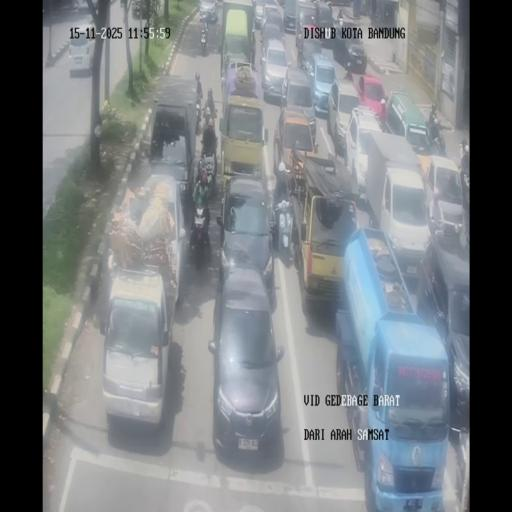3: (338, 232, 448, 507), (288, 156, 357, 316), (144, 78, 202, 206), (362, 134, 426, 248), (218, 91, 266, 200), (220, 0, 256, 78)
car: (208, 269, 284, 461), (100, 267, 174, 431), (216, 177, 276, 298), (422, 154, 464, 237), (330, 76, 366, 154), (281, 64, 315, 135), (259, 38, 290, 102), (330, 28, 368, 73), (68, 29, 95, 75), (298, 32, 322, 70), (261, 6, 285, 38), (313, 3, 334, 35), (283, 0, 297, 31), (199, 0, 217, 22), (254, 0, 266, 24), (74, 0, 93, 13), (131, 0, 143, 18)
truck: (190, 202, 212, 269), (275, 198, 294, 256), (196, 150, 217, 201), (425, 120, 447, 156), (202, 100, 217, 126), (199, 21, 208, 57), (195, 94, 202, 131), (378, 109, 389, 131), (459, 139, 469, 163), (250, 31, 256, 68), (334, 12, 344, 32), (344, 62, 353, 80), (154, 0, 162, 16), (326, 0, 332, 10)
